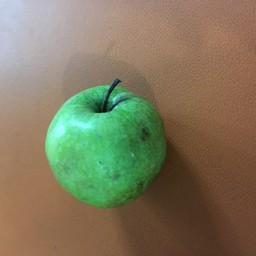Bad_apple: (43, 82, 165, 209)
